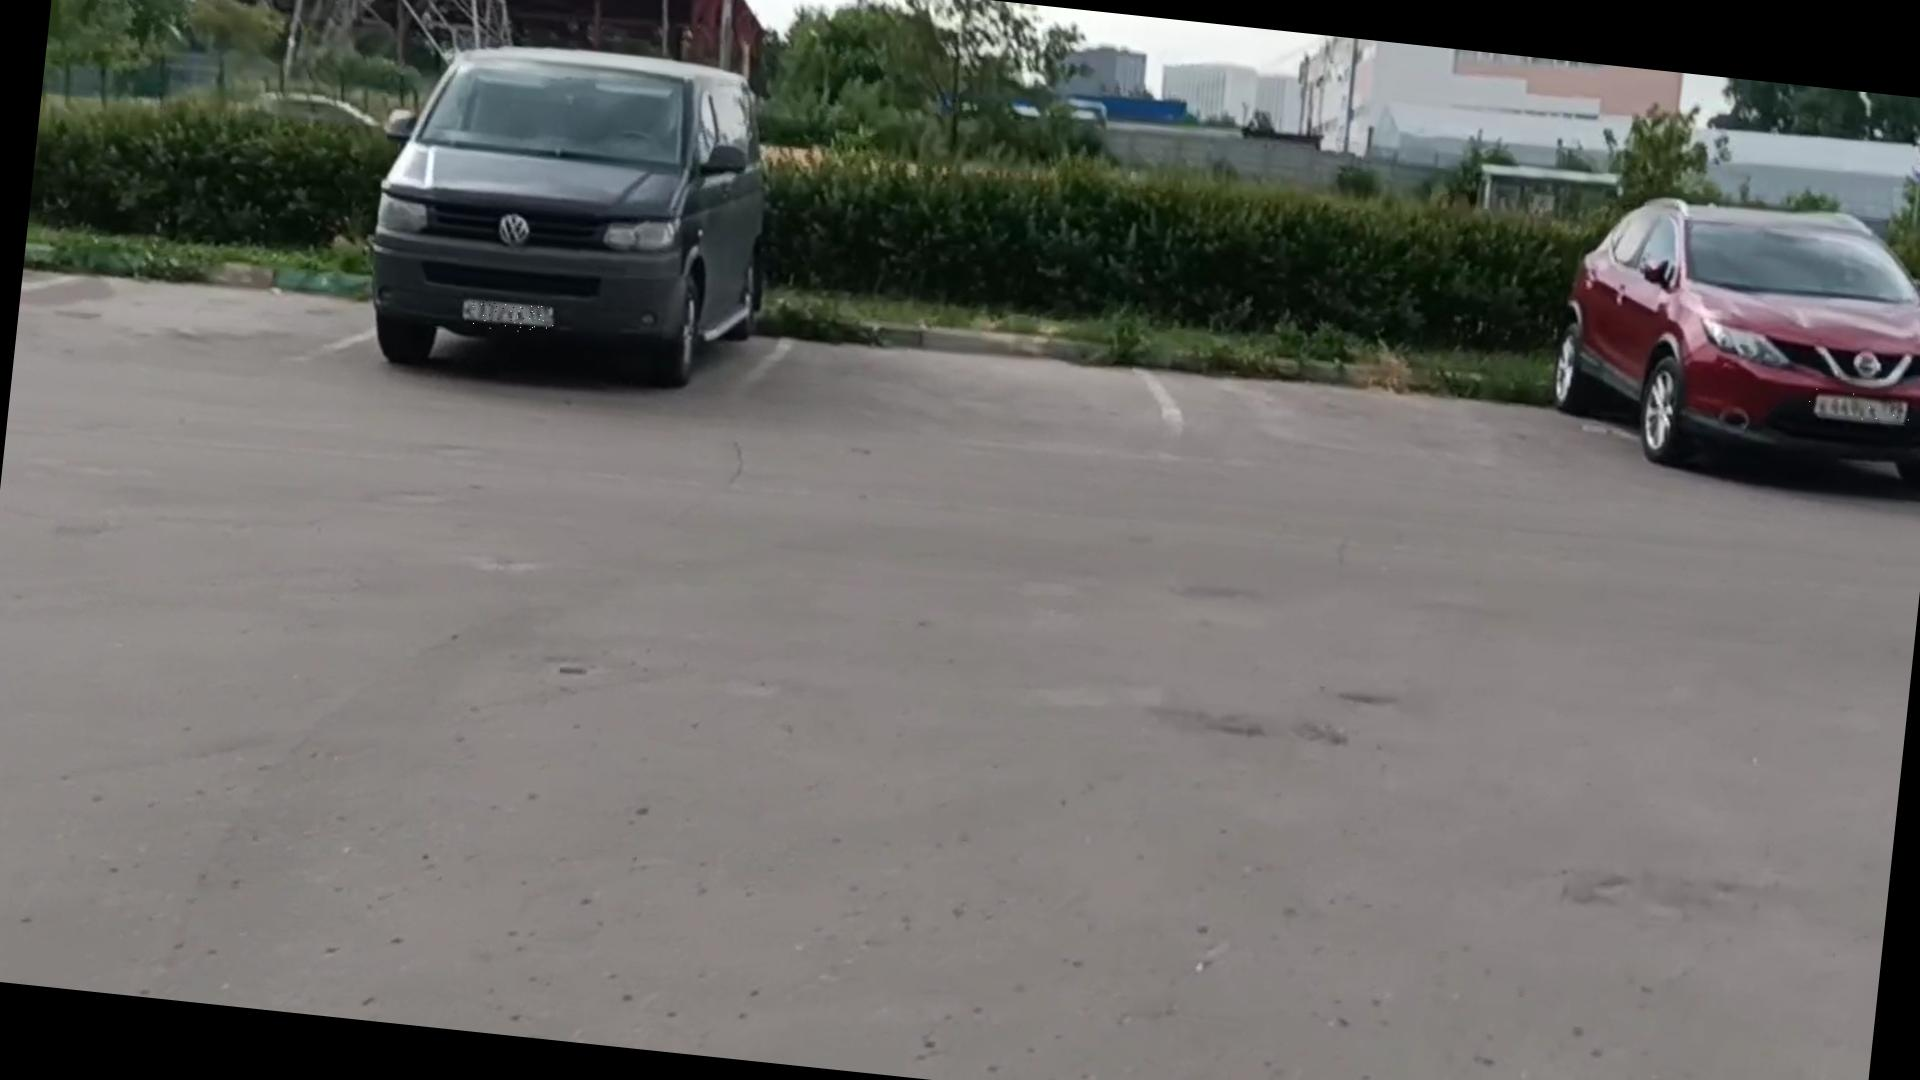plate: (1805, 390, 1915, 427), (467, 301, 558, 338)
